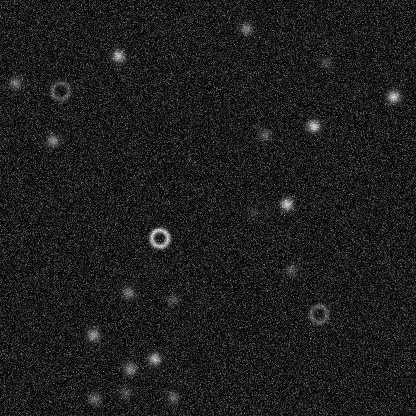Ring: (48, 78, 72, 102), (306, 301, 330, 325), (147, 225, 171, 249)
Spot: (7, 74, 23, 90), (238, 20, 254, 36), (117, 384, 133, 400), (86, 390, 102, 406), (305, 118, 321, 134), (256, 126, 272, 142), (44, 132, 60, 148), (165, 389, 181, 405), (278, 195, 294, 211), (121, 360, 137, 376), (146, 350, 162, 366), (164, 291, 180, 307), (244, 204, 260, 220), (84, 326, 100, 342), (317, 54, 333, 70), (385, 88, 401, 104), (110, 47, 126, 63), (120, 284, 136, 300), (283, 261, 299, 277)
